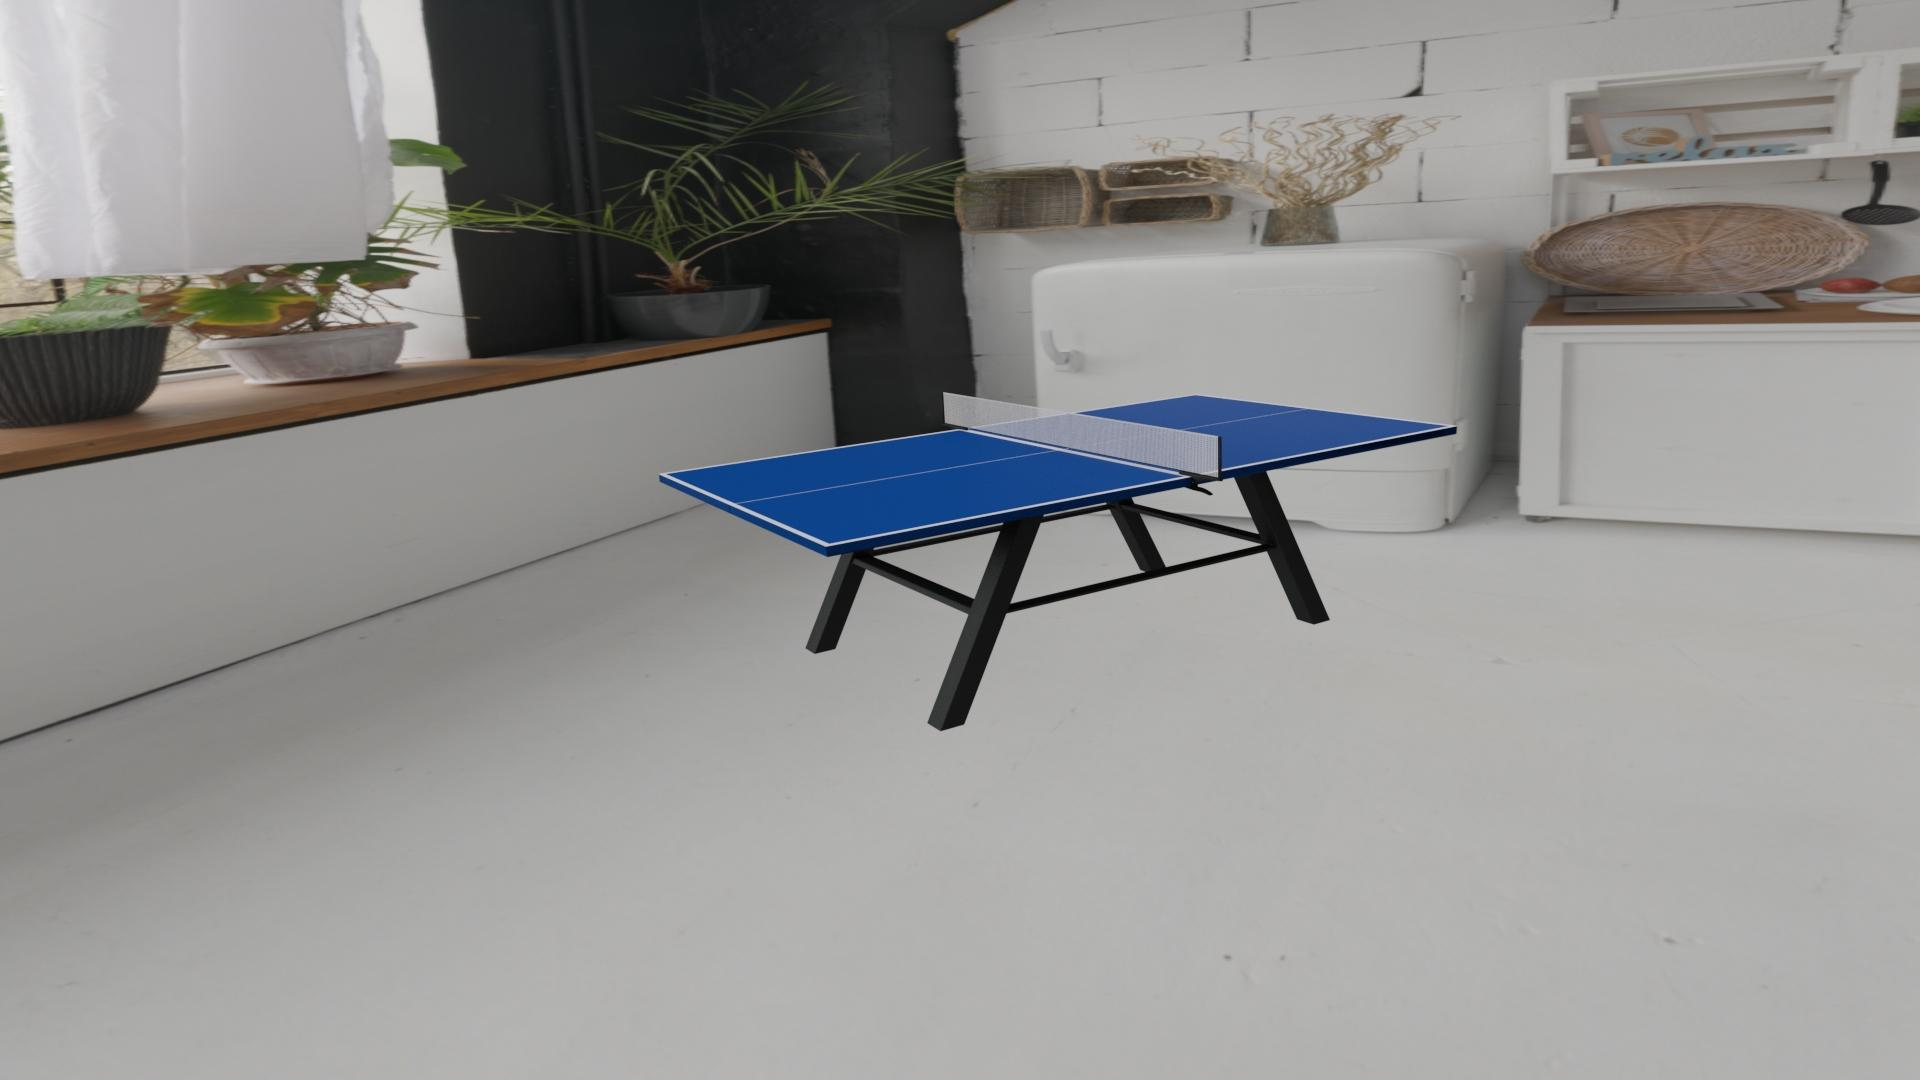table: (665, 394, 1451, 545)
